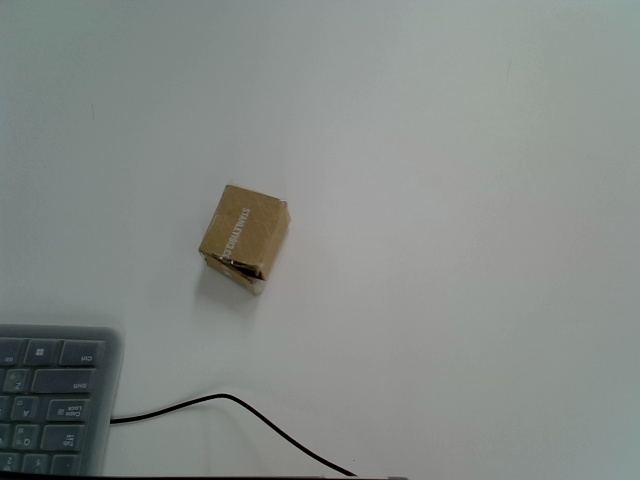defect: (197, 185, 293, 294)
